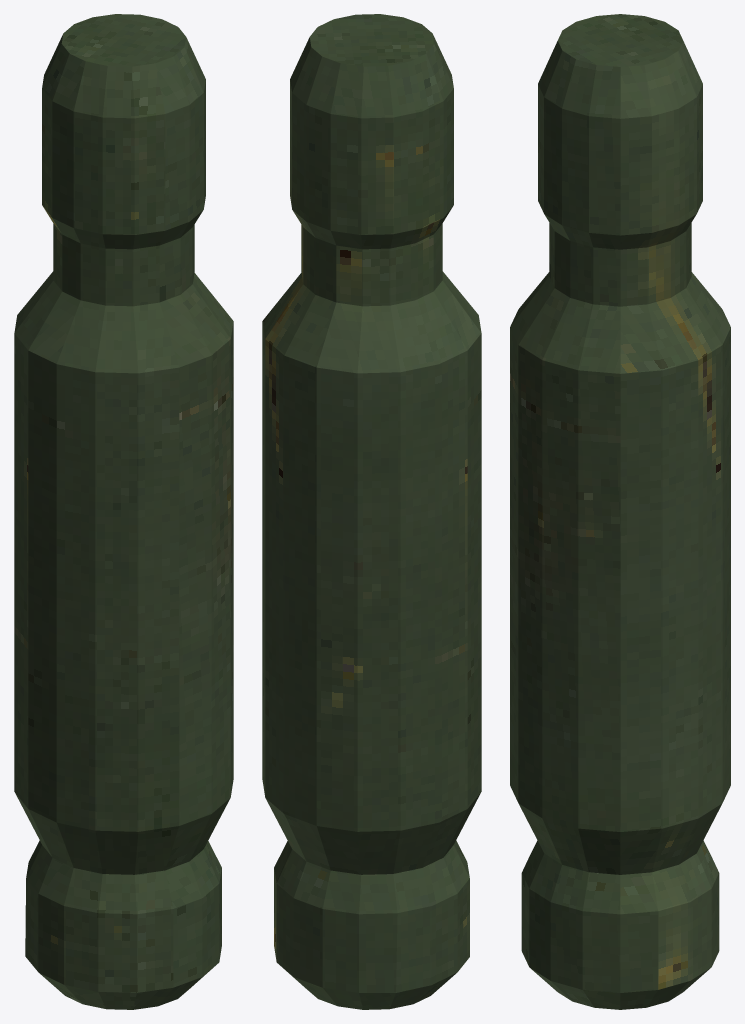
The model's file is battery.glb.
3 renders of one model, left to right at view 1: azimuth 30°, elevation 25°; view 2: azimuth 150°, elevation 25°; view 3: azimuth 270°, elevation 25°, orthographic.
Visible parts, largest first — view 1: Battery; view 2: Battery; view 3: Battery.
Boxes of the visible parts, left/top/right/bottom form: Battery: left=14, top=14, right=233, bottom=1009; Battery: left=262, top=14, right=481, bottom=1009; Battery: left=510, top=14, right=730, bottom=1009.
Size of the model in its own units: 0.331 by 1.56 by 0.331.
1 material, 1 textured.
